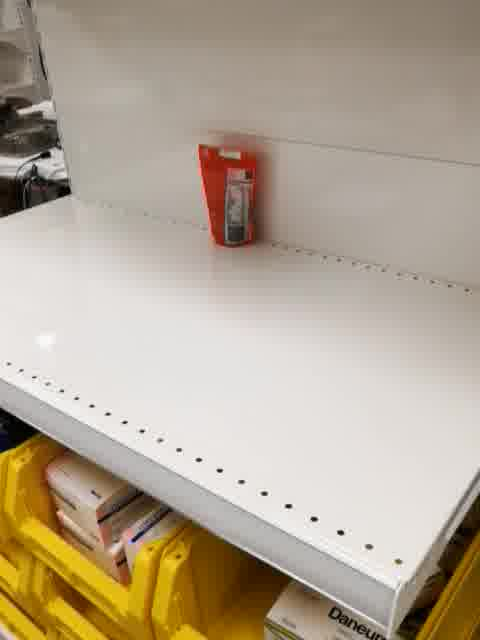whitechia: (195, 142, 263, 251)
